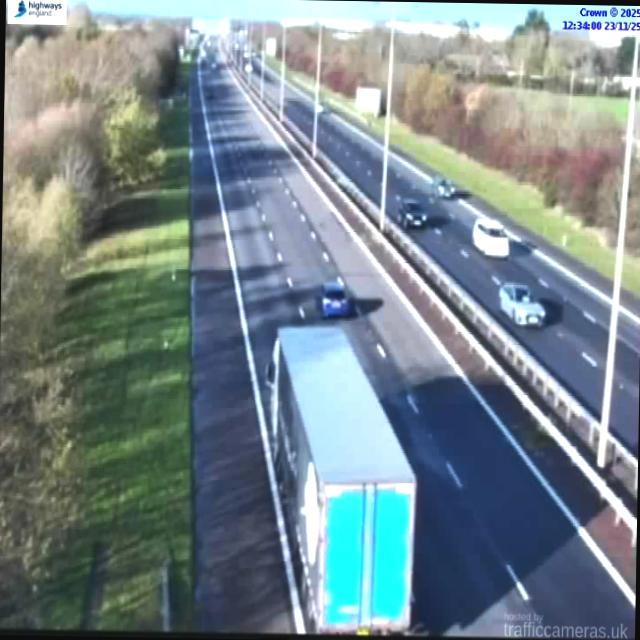foliage: (0, 26, 177, 614), (391, 62, 624, 238), (321, 47, 386, 108), (624, 158, 640, 252), (286, 47, 314, 74)
